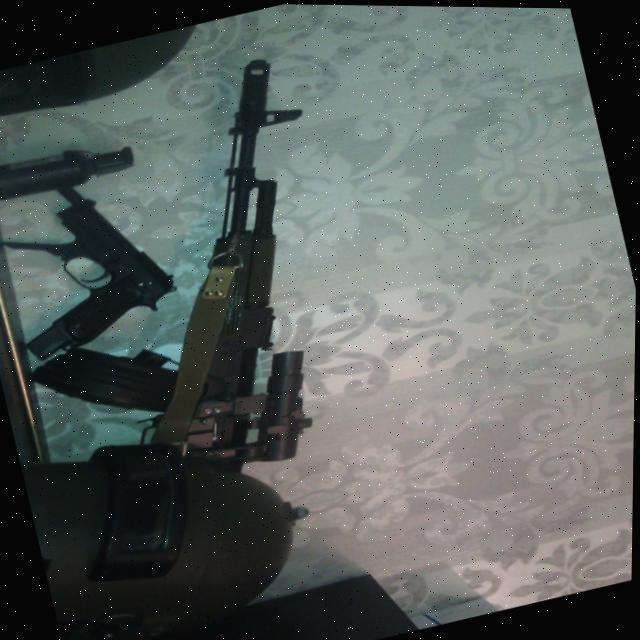firearm: (0, 48, 382, 511)
grenade: (0, 132, 143, 211)
pistol: (0, 172, 186, 365)
